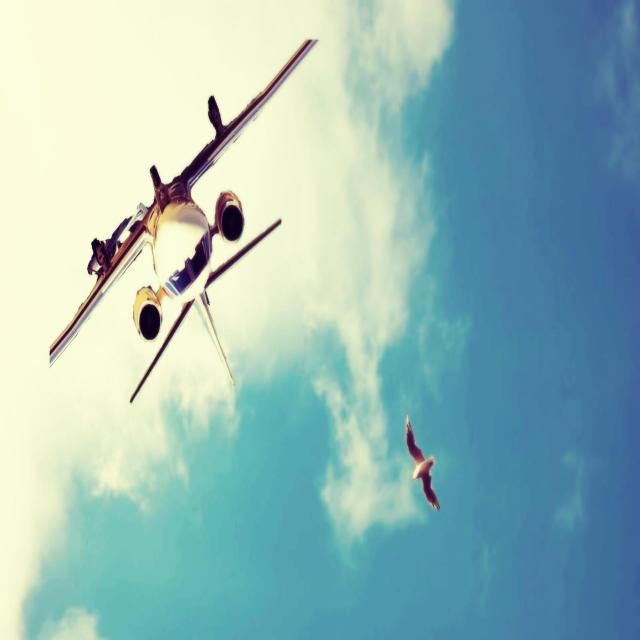airplane: (48, 36, 319, 404)
